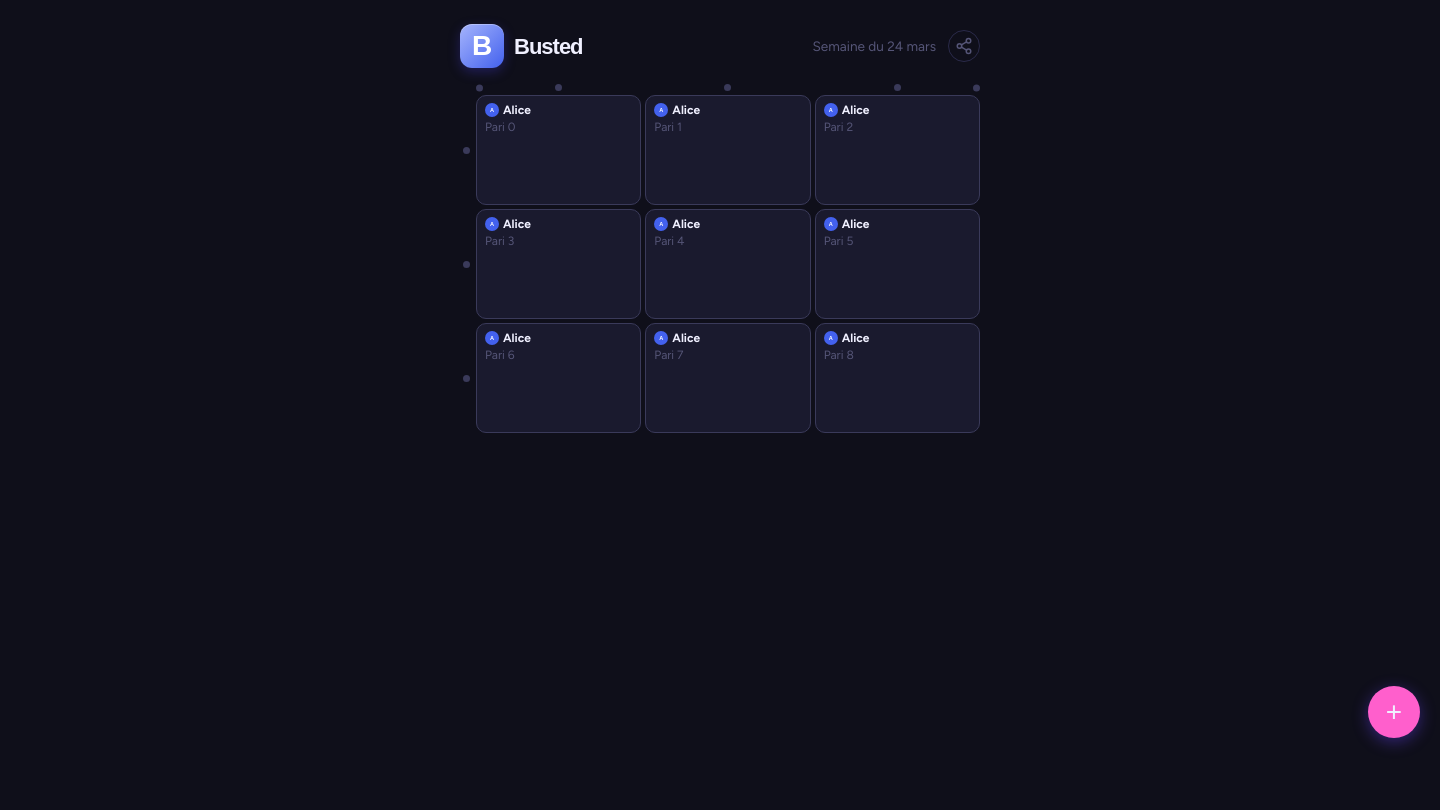
Test: Game — grid with cells › opens ProposeCell modal on FAB click
Click the button "+" at (1394, 712), box [1368,686,1420,738]
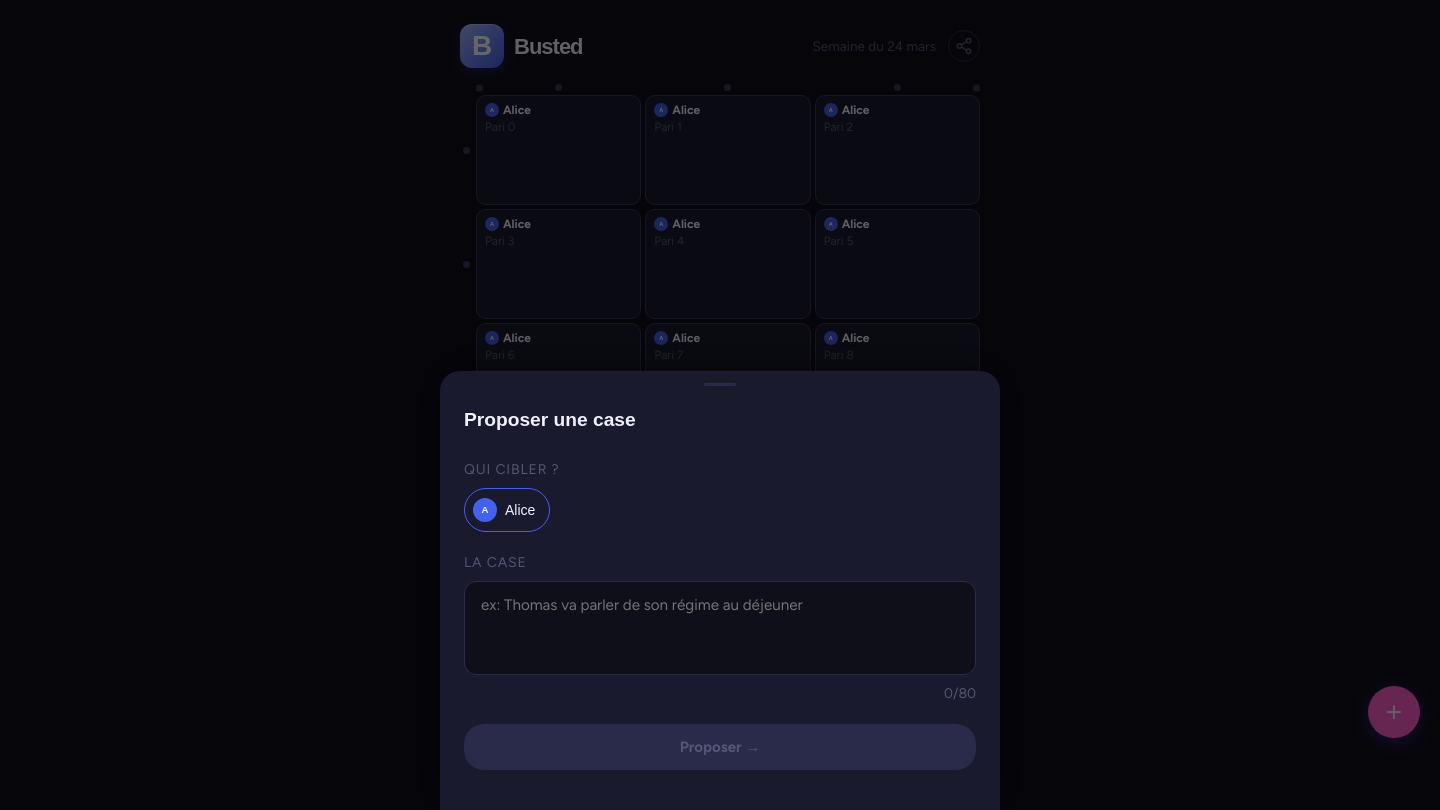
expect the heading "Proposer une case" is shown: met, box [464,409,636,430]
